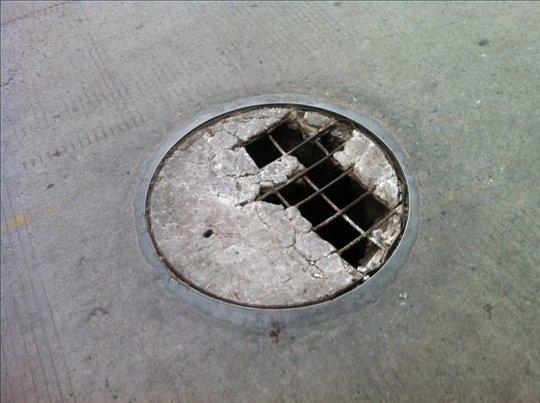broke: (125, 90, 438, 327)
